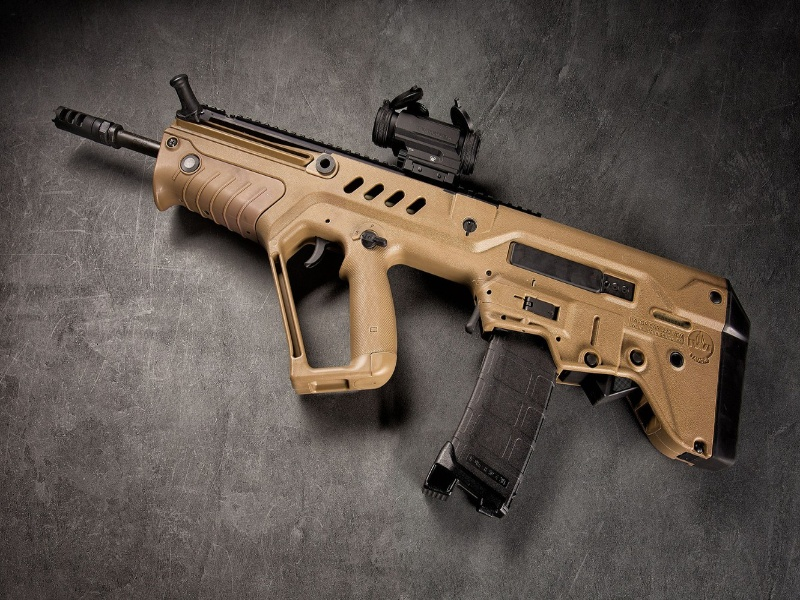weapon: (52, 73, 750, 518)
